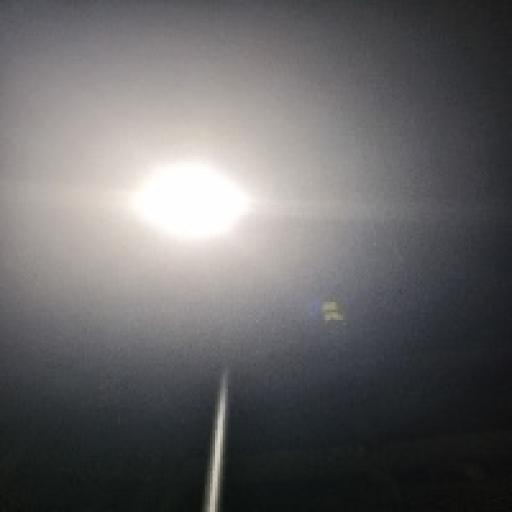Working: (125, 151, 273, 257)
